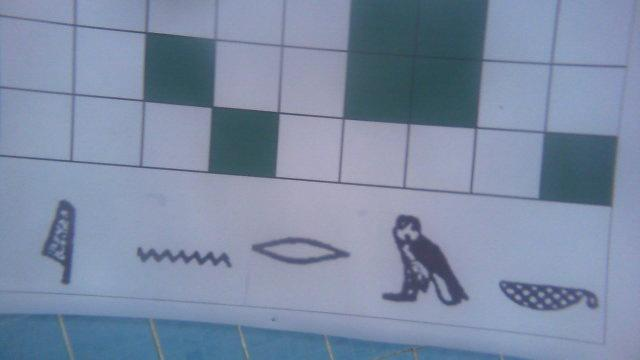Basket: (494, 276, 601, 319)
Mouth: (247, 233, 355, 271)
Owl: (378, 212, 469, 312)
Reed: (37, 195, 78, 286)
Water: (135, 246, 234, 270)
